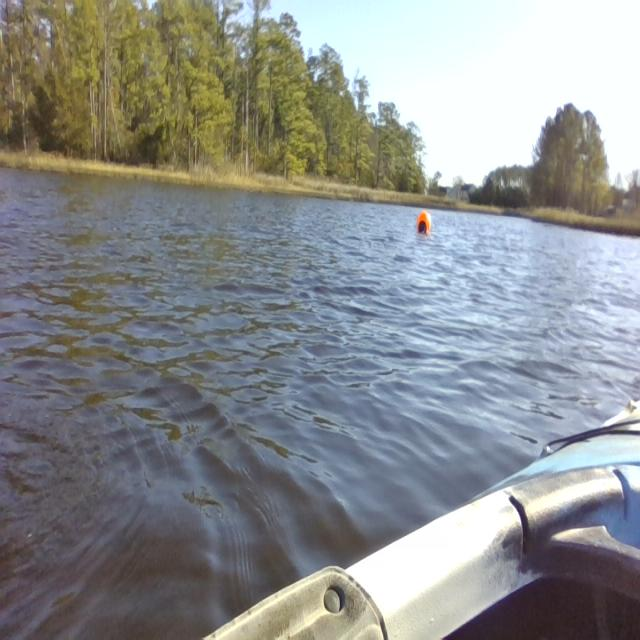Buoy: (415, 206, 436, 244)
